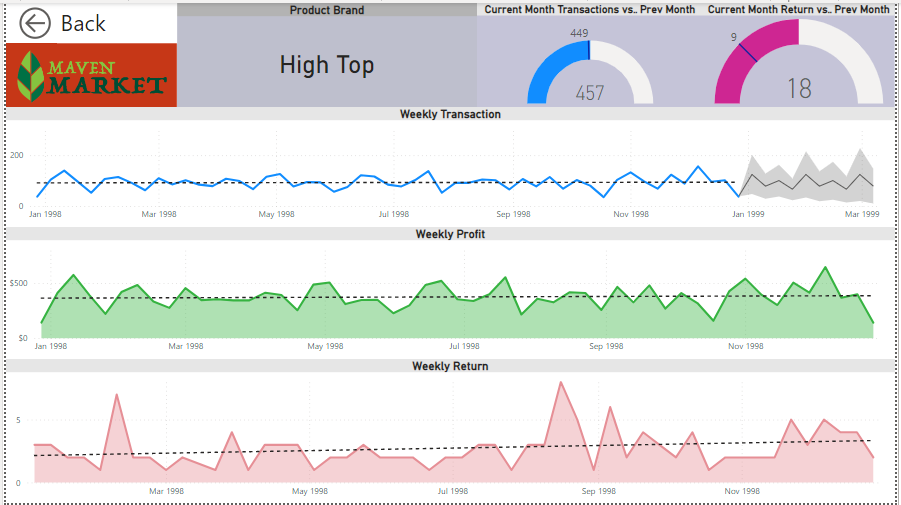

Layout of this report page (visuals, bound fields, positions):
{"tool":"powerbi","page":{"name":"Product Detail","canvas":[1280,720],"ordinal":1},"visuals":[{"type":"image","box":[0,57.6,246.2,96.5],"z":0},{"type":"gauge","title":"Current Month Transactions vs.. Prev Month","fields":{"Y":["Key Measures.Total Transactions"],"TargetValue":["Key Measures.Last Month Transactions"]},"box":[677.9,0,325.7,149.7],"z":1000},{"type":"gauge","title":"Current Month Return vs.. Prev Month","fields":{"Y":["Key Measures.Total Returns"],"TargetValue":["Key Measures.Last Month Return"]},"box":[1003.6,0,276.4,149.7],"z":2000},{"type":"card","title":"Product Brand","fields":{"Values":["Min(Products.product_brand)"]},"box":[246.2,0,432,149.8],"z":3000},{"type":"lineChart","title":"Weekly Transaction","fields":{"Y":["Key Measures.Total Transactions"],"Category":["Calendar.Start of Week"]},"box":[0,149.7,1280,172.5],"z":4000},{"type":"areaChart","title":"Weekly Profit","fields":{"Category":["Calendar.Start of Week"],"Y":["Key Measures.Total Profit"]},"box":[0,322.2,1280,190.2],"z":5000},{"type":"areaChart","title":"Weekly Return","fields":{"Category":["Calendar.Start of Week"],"Y":["Key Measures.Total Returns"]},"box":[0,512.4,1280,207.8],"z":6000},{"type":"actionButton","box":[13.7,0,109.4,58.1],"z":7000},{"type":"textbox","box":[73.5,0,172.6,58.1],"z":7001}]}

Visuals, with their boxes in screenshot pixels (x1, y1, x2, y2), scaled from the page's 1280x720 canvas onto the 901x505 screenshot:
image: 0 40 173 108
"Current Month Transactions vs.. Prev Month" gauge: 477 0 706 105
"Current Month Return vs.. Prev Month" gauge: 706 0 900 105
"Product Brand" card: 173 0 477 105
"Weekly Transaction" lineChart: 0 105 900 226
"Weekly Profit" areaChart: 0 226 900 359
"Weekly Return" areaChart: 0 359 900 504
actionButton: 10 0 87 41
textbox: 52 0 173 41
